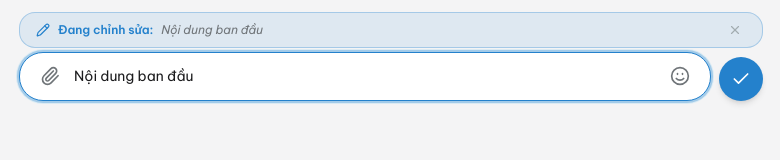
Test case: MessageComposer Component Tests › cancels edit mode when clicking cancel button on banner
Click the button named "Hủy bỏ chỉnh sửa" at (735, 30), box [724,19,746,41]
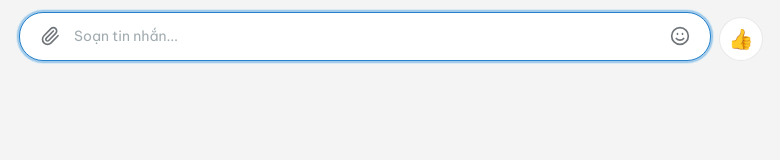
Expected: the text "Đang chỉnh sửa:" is gone
